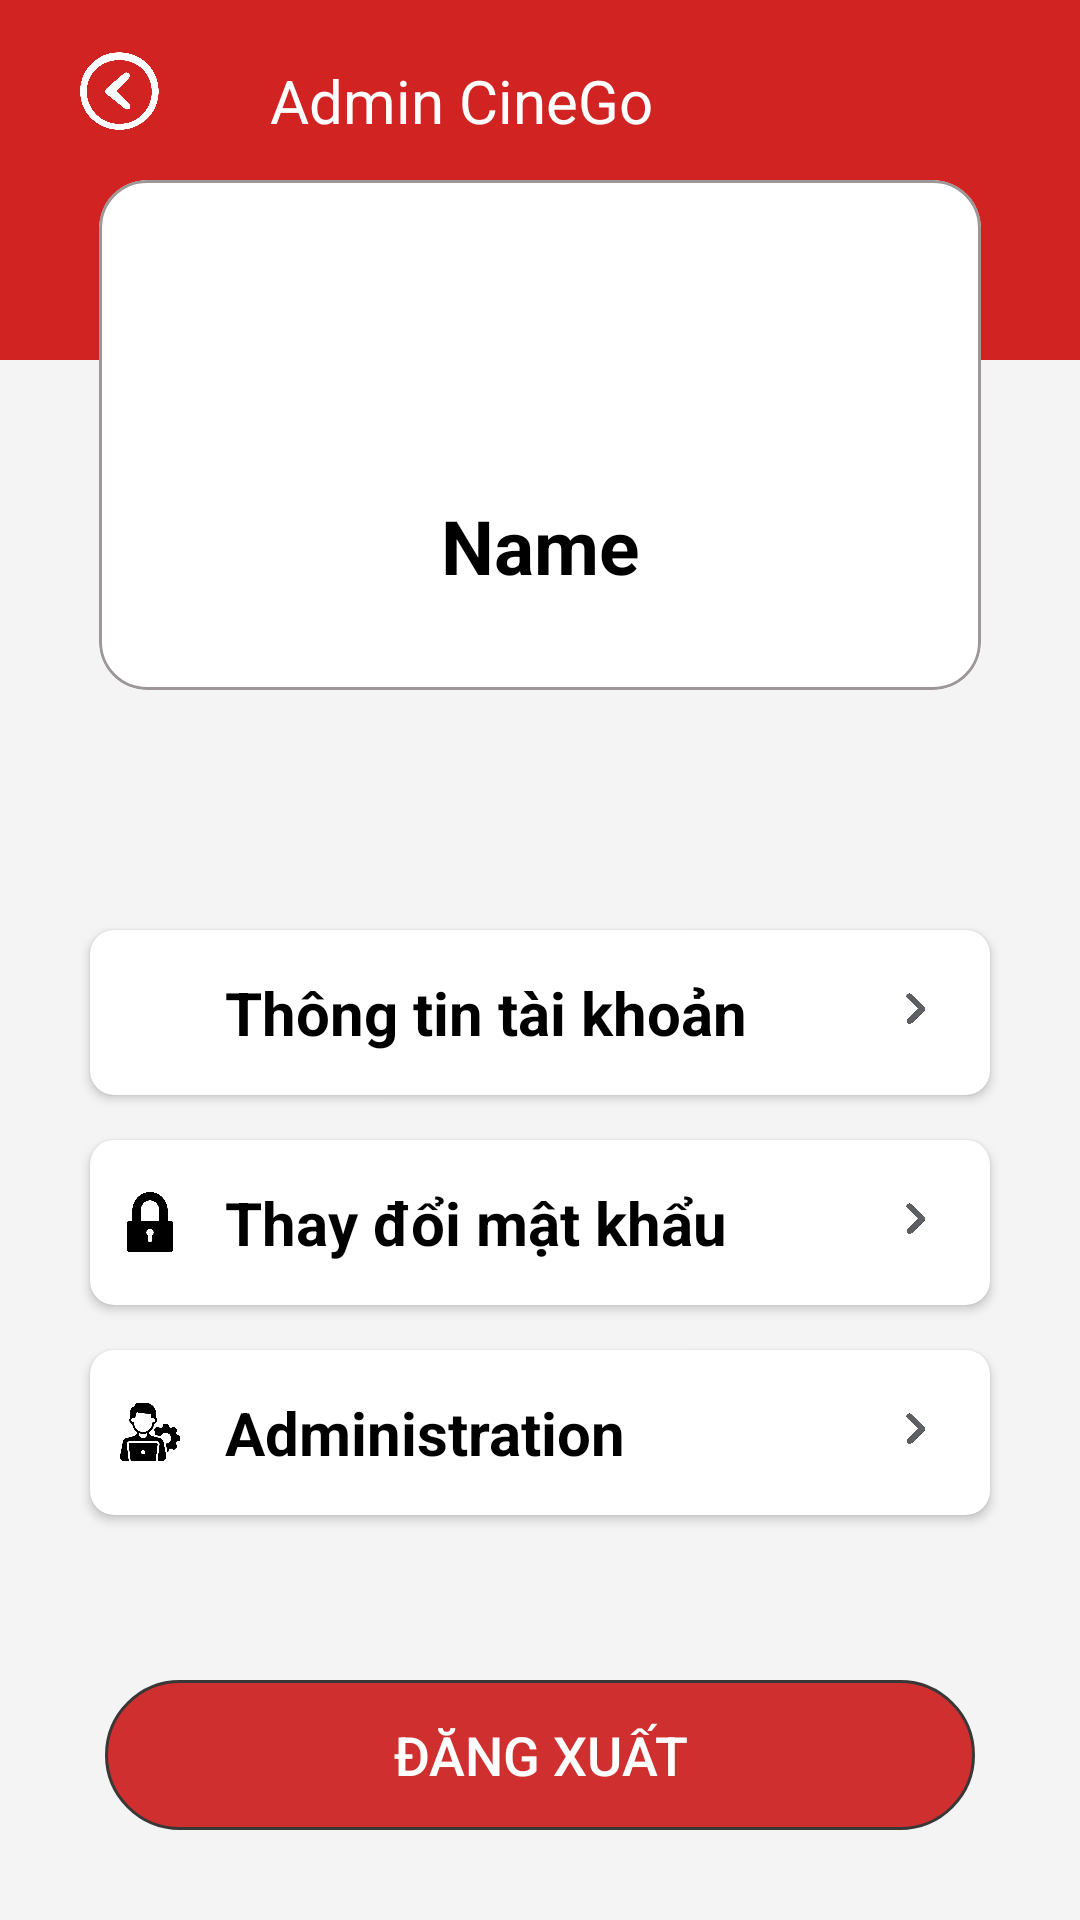

Point at icon controls on the screen. Image size 1080*1920, points as point (x, y).
khoaden: point (150, 1222)
next: point (915, 1008), point (915, 1218), point (915, 1428)
